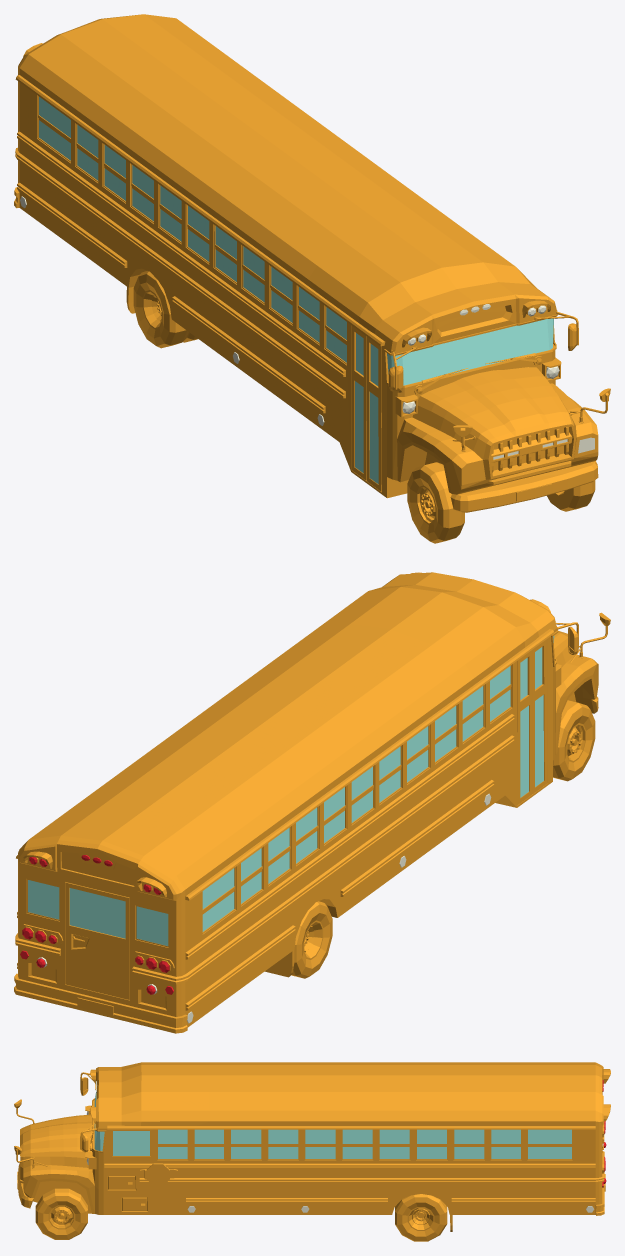
Rendered from SM_Car_Bus_School_Modern.fbx.
The picture shows the model from 3 angles, top to bottom: view 1: azimuth 30°, elevation 25°; view 2: azimuth 150°, elevation 25°; view 3: azimuth 270°, elevation 25°; orthographic projection. The views are drawn at different scales.
Parts seen in each view (by area): view 1: bus-school-modern-base, bus-school-modern-wheel-rfr, bus-school-modern-wheel-rba, bus-school-modern-entrance-door-left, bus-school-modern-entrance-door-right, bus-school-modern-wheel-lfr; view 2: bus-school-modern-base, bus-school-modern-back-door, bus-school-modern-wheel-rfr, bus-school-modern-entrance-door-right, bus-school-modern-wheel-rba, bus-school-modern-entrance-door-left; view 3: bus-school-modern-base, bus-school-modern-wheel-lfr, bus-school-modern-wheel-lba.
Boxes of the visible parts, x1,y1,x2,y2 form: bus-school-modern-base: [14, 14, 610, 512]; bus-school-modern-wheel-rfr: [407, 462, 464, 543]; bus-school-modern-wheel-rba: [133, 271, 197, 348]; bus-school-modern-entrance-door-left: [351, 325, 366, 480]; bus-school-modern-entrance-door-right: [366, 336, 381, 491]; bus-school-modern-wheel-lfr: [547, 480, 595, 511]; bus-school-modern-base: [14, 572, 610, 1033]; bus-school-modern-back-door: [65, 882, 129, 999]; bus-school-modern-wheel-rfr: [553, 700, 595, 781]; bus-school-modern-entrance-door-right: [531, 639, 547, 794]; bus-school-modern-wheel-rba: [291, 901, 332, 978]; bus-school-modern-entrance-door-left: [517, 650, 531, 805]; bus-school-modern-base: [14, 1062, 610, 1231]; bus-school-modern-wheel-lfr: [35, 1188, 87, 1239]; bus-school-modern-wheel-lba: [395, 1194, 447, 1241].
Size of the model in its own units: 2.99 by 3.2 by 12.25.
